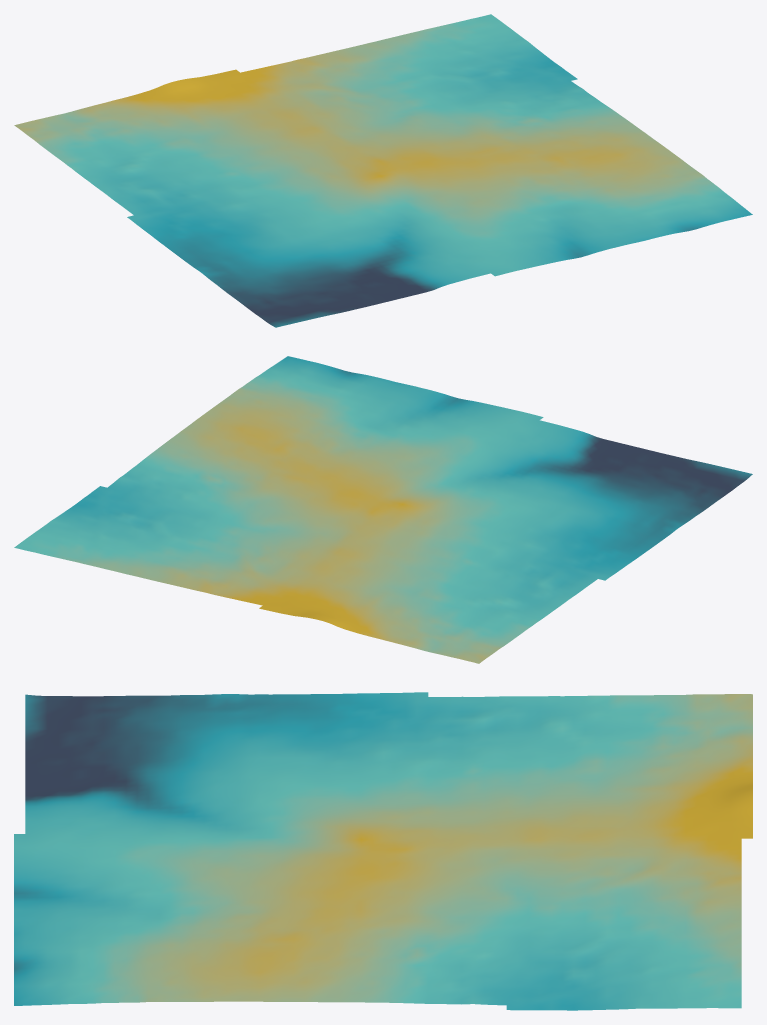
The model's file is terrain.glb.
The picture shows the model from 3 angles, top to bottom: view 1: azimuth 30°, elevation 25°; view 2: azimuth 150°, elevation 25°; view 3: azimuth 270°, elevation 25°; orthographic projection. The views are drawn at different scales.
Parts seen in each view (by area): view 1: terrain-chunk-0000; view 2: terrain-chunk-0000; view 3: terrain-chunk-0000.
Boxes of the visible parts, x1,y1,x2,y2 form: terrain-chunk-0000: (14,14,752,327); terrain-chunk-0000: (14,356,752,663); terrain-chunk-0000: (14,692,752,1010).
Size of the model in its own units: 2060 by 40.24 by 2029.
